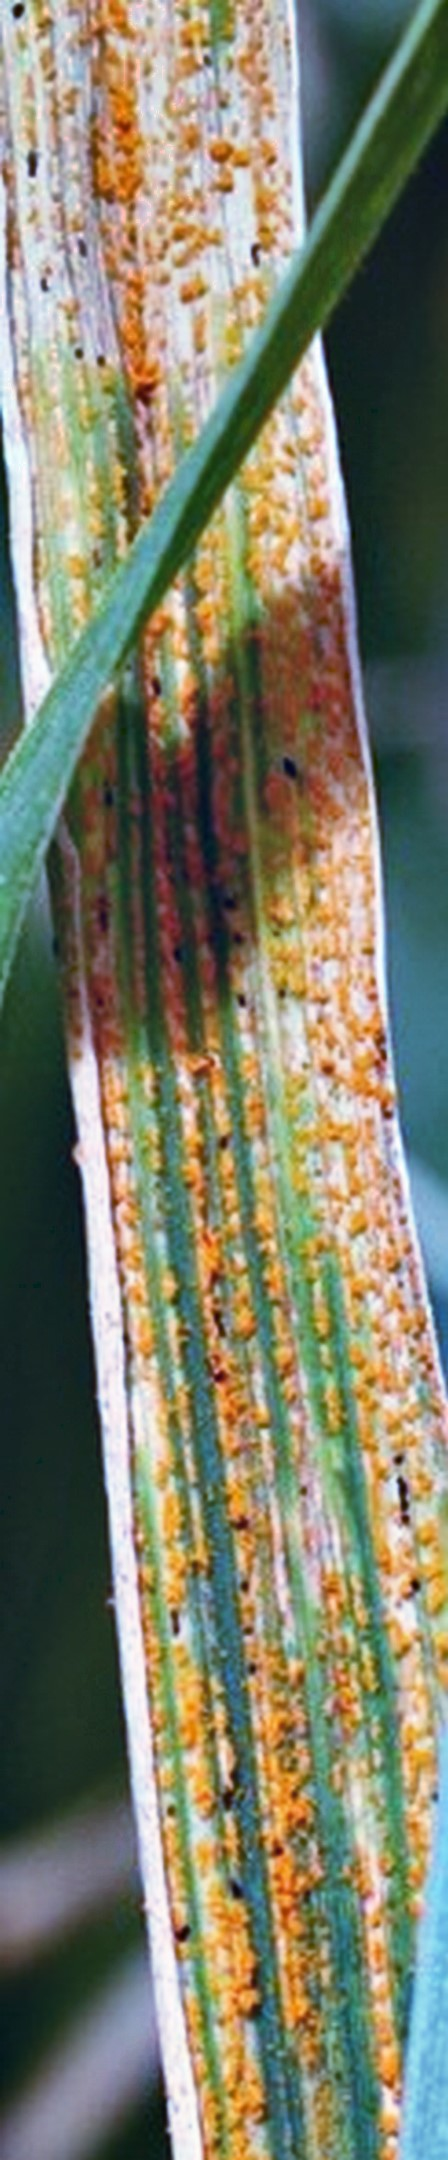Leaf Rust: (34, 134, 448, 1959)
